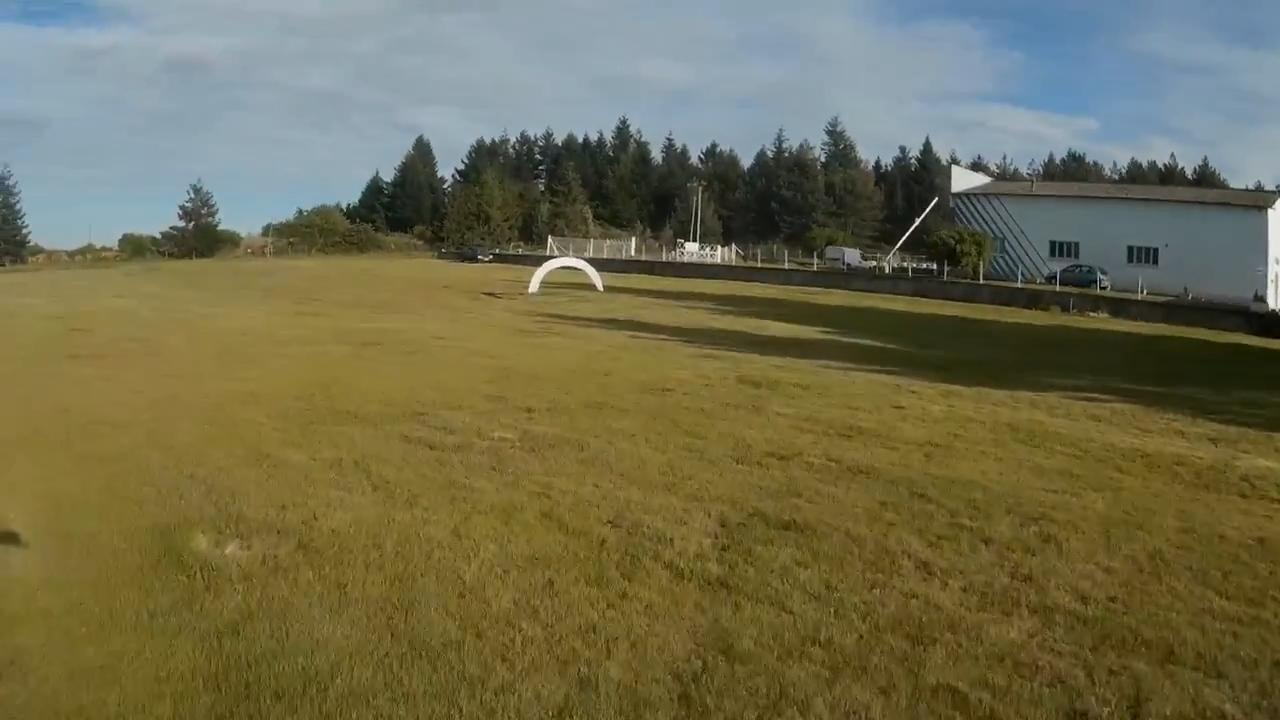gate: (526, 257, 605, 296)
